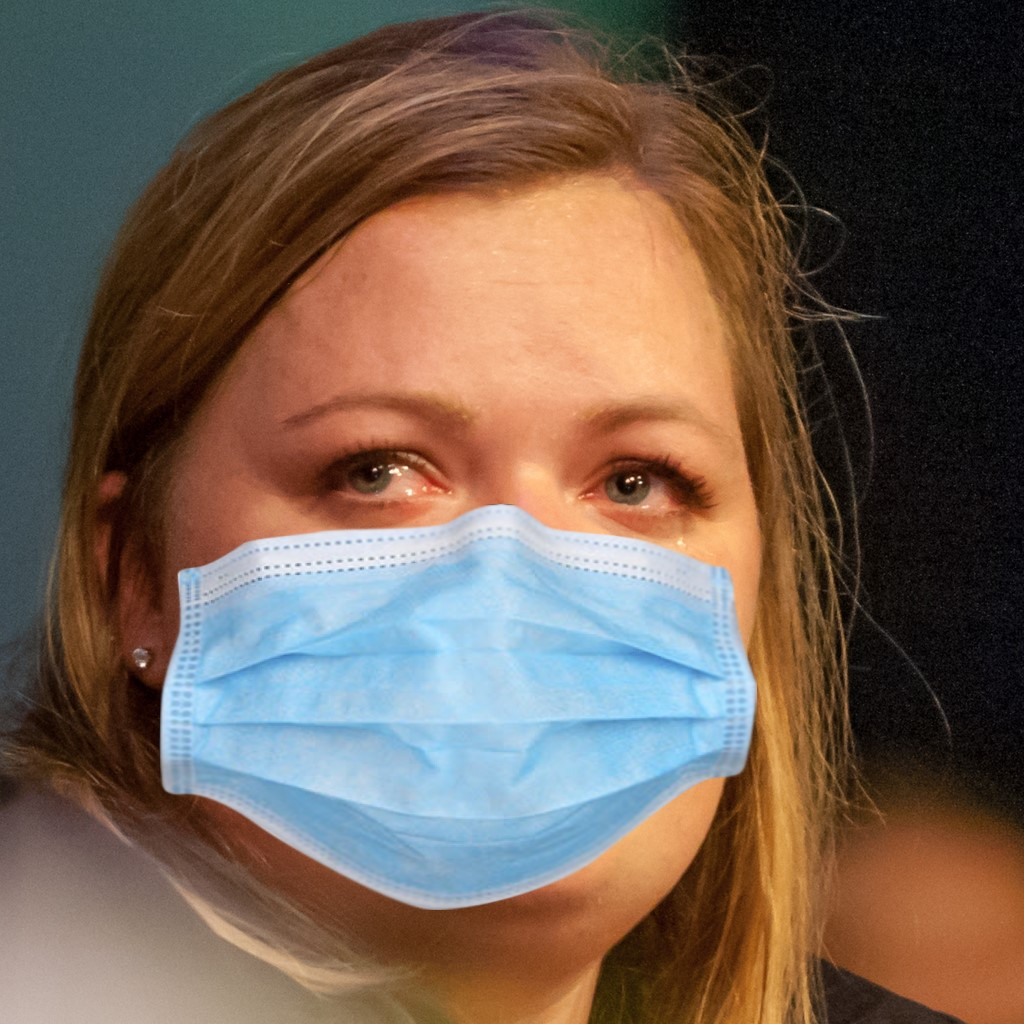con_mascara: (87, 90, 787, 942)
